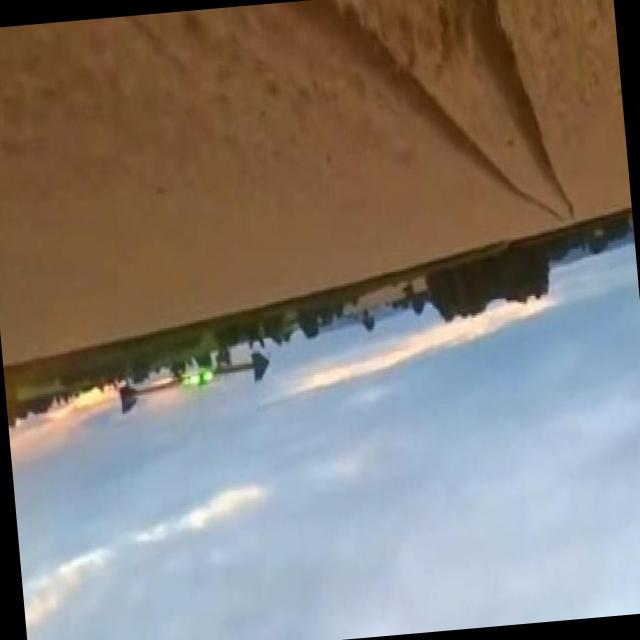UAV: (124, 313, 340, 433)
